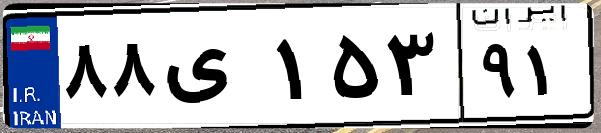1: (270, 28, 330, 110), (525, 38, 570, 115)
3: (385, 28, 445, 110)
5: (330, 28, 385, 110)
8: (57, 26, 110, 100), (110, 28, 158, 98)
9: (475, 38, 525, 113)
ی: (158, 20, 270, 120)
